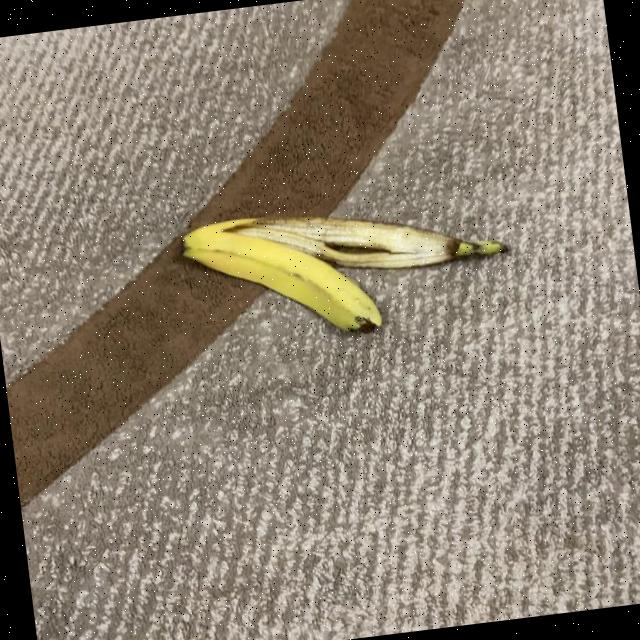banana-peel: (177, 200, 384, 354), (221, 185, 508, 291)
